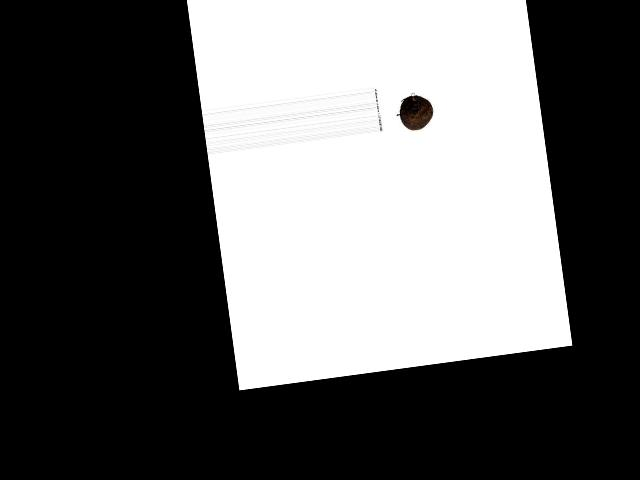beet: (398, 94, 434, 132)
